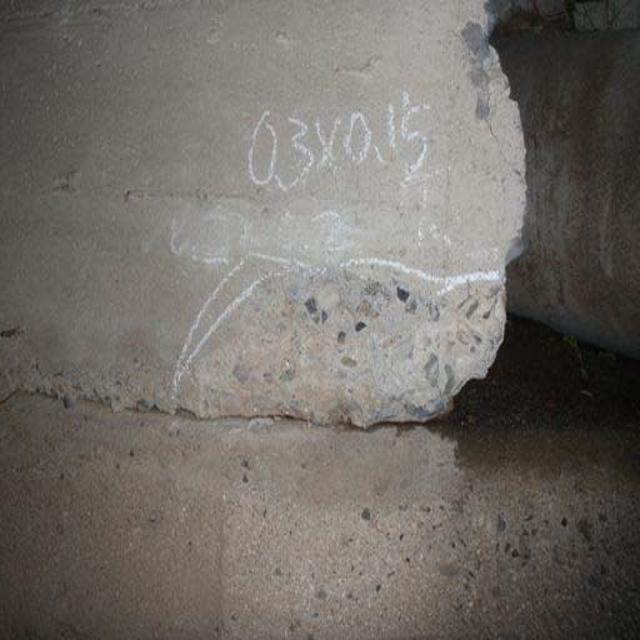spalling: (210, 253, 517, 447)
